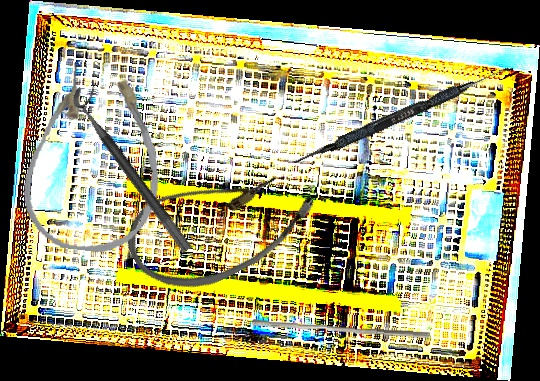Cannula: (114, 136, 327, 312), (17, 58, 172, 259)
Fixation Ring: (67, 79, 206, 254)
Pusher: (251, 318, 431, 339)
Spatula Surgical: (292, 58, 514, 172)
